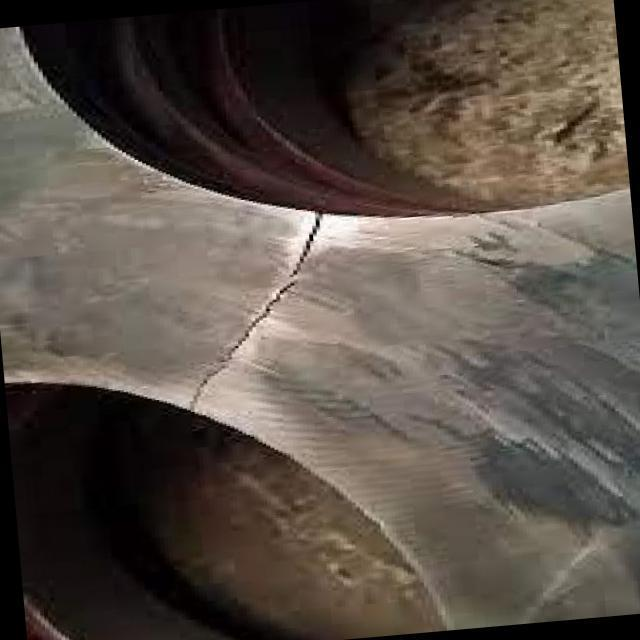defect: (187, 206, 329, 416)
